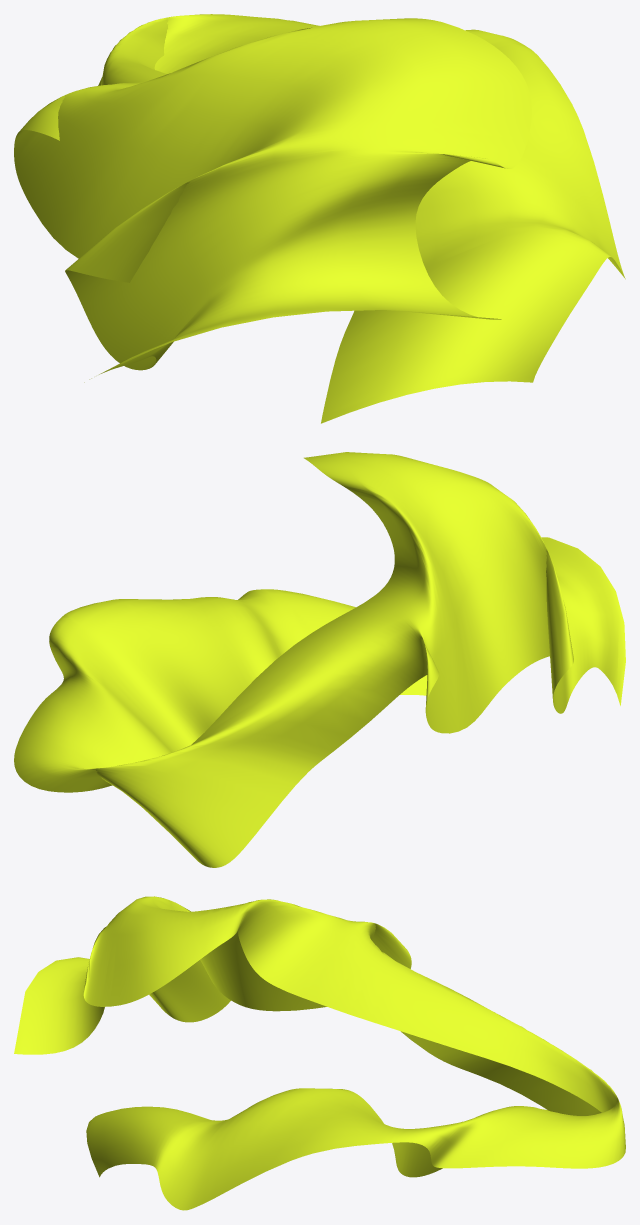
The model's file is wave.glb.
3 views of the same model, one above another, from view 1: azimuth 30°, elevation 25°; view 2: azimuth 150°, elevation 25°; view 3: azimuth 270°, elevation 25° (orthographic). The views are drawn at different scales.
Visible parts, largest first — view 1: n.326654; view 2: n.326654; view 3: n.326654.
Boxes of the visible parts, x1,y1,x2,y2 form: n.326654: [14, 14, 625, 423]; n.326654: [14, 452, 625, 867]; n.326654: [14, 896, 625, 1210].
Bounding box in the file's own units: 14.04 × 7.48 × 17.32.
